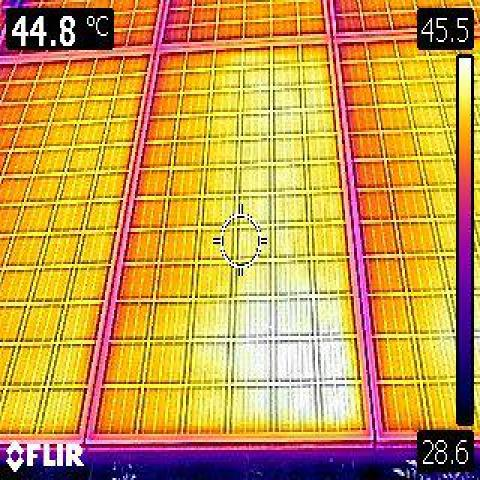fault: (224, 299, 354, 426)
